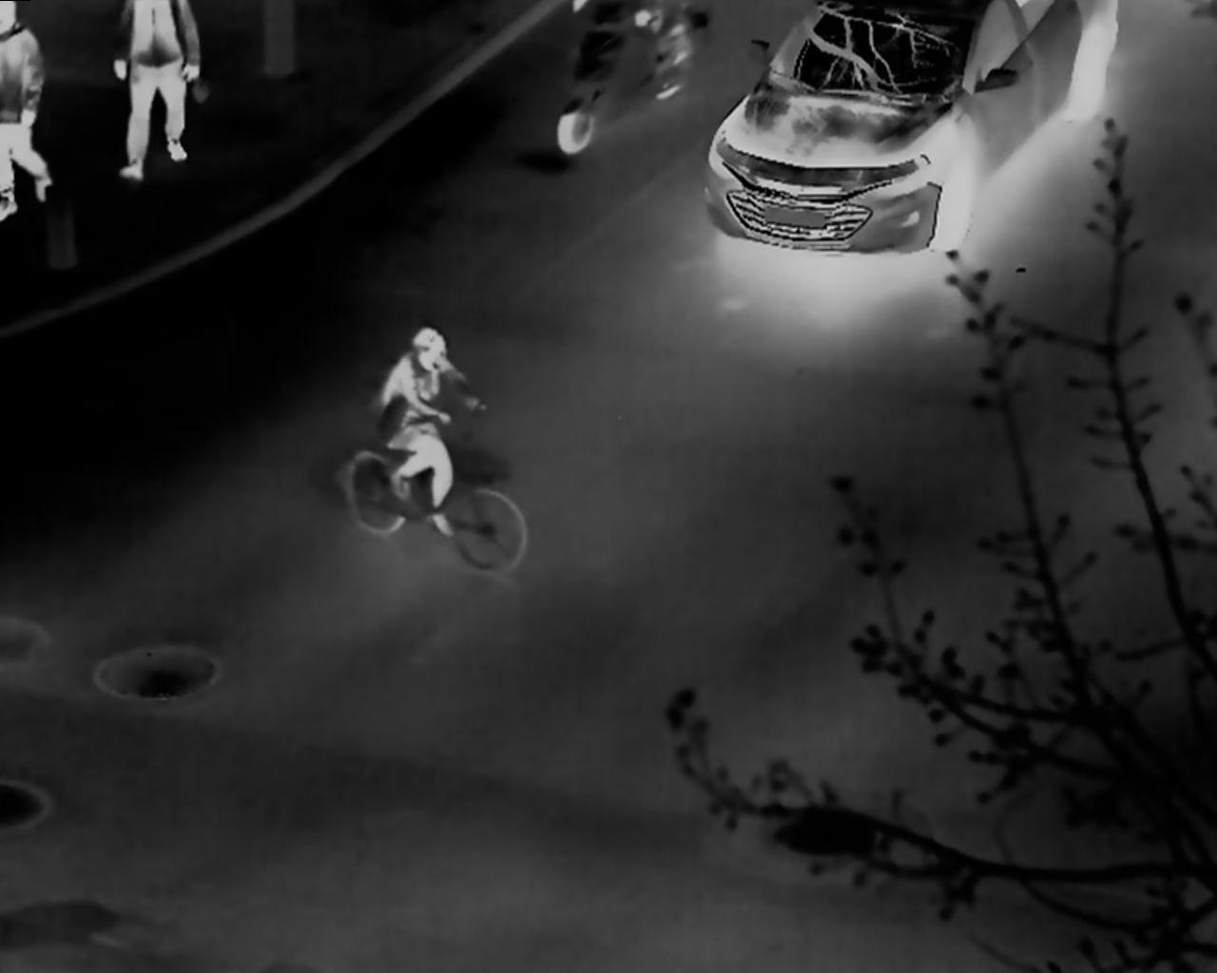person: (379, 327, 481, 536)
